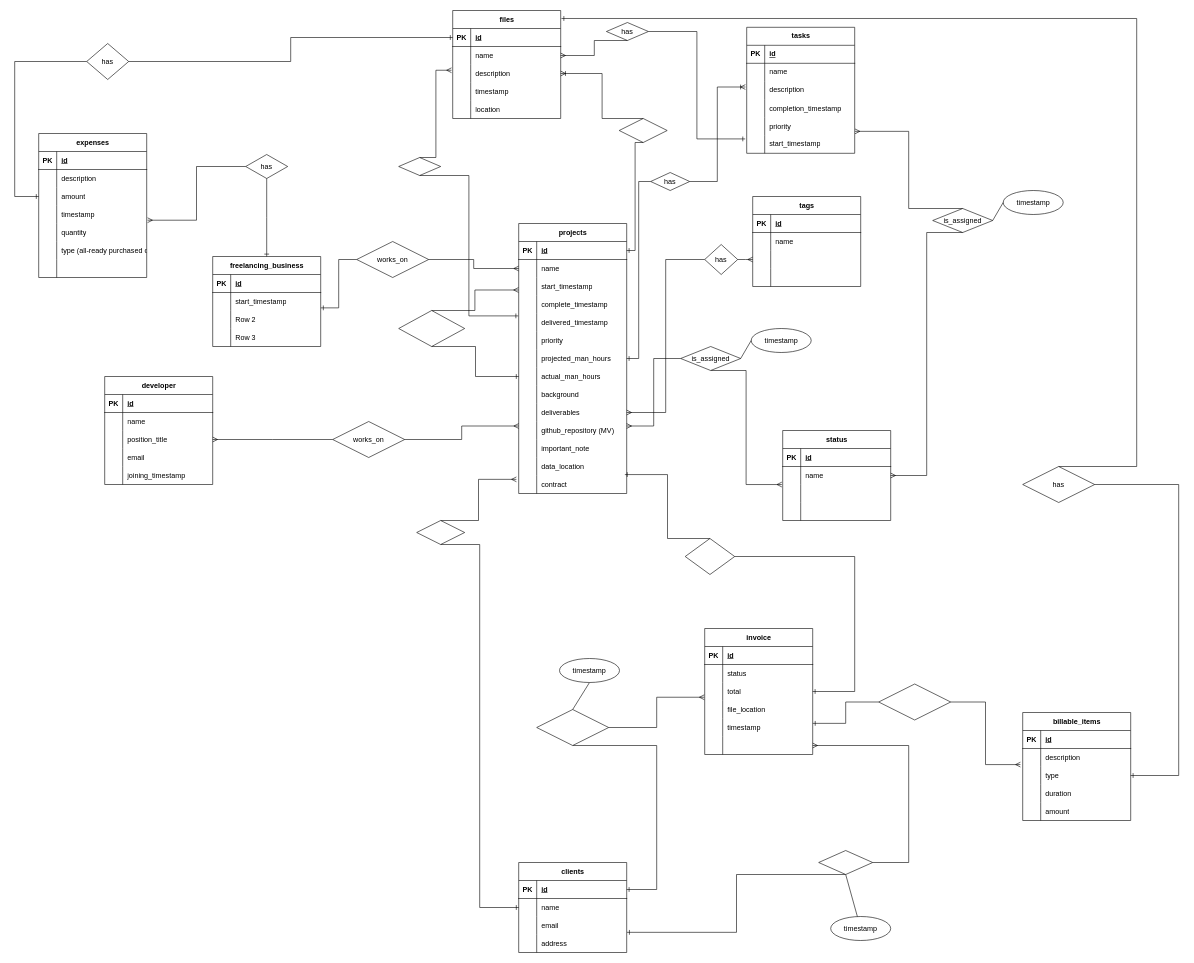
The diagram is 1194 pixels wide and 963 high, and some of its shapes have lost their labels. The centre of each missing label's shape, as x and y in pixels:
associated_with: pixel 431 328
contains: pixel 419 166
delivers: pixel 643 130
incurs: pixel 710 556
is_billed: pixel 572 727
lists: pixel 914 701
offers: pixel 440 532
pays: pixel 845 862
